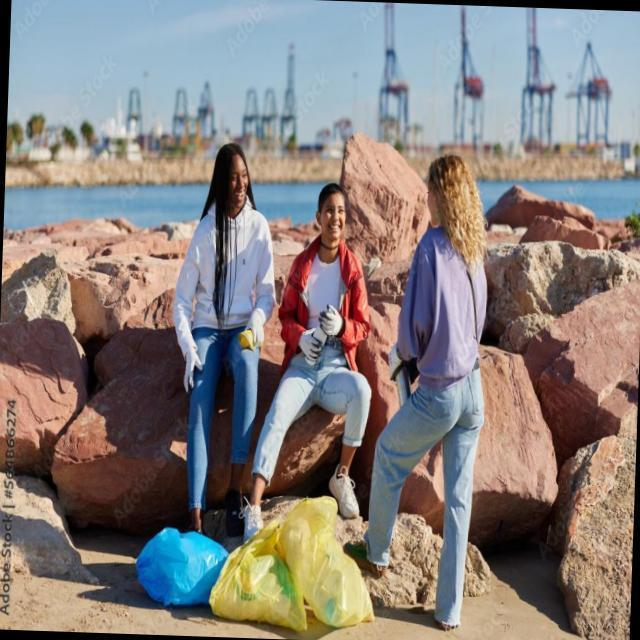Garbage_Bag: (132, 521, 226, 613)
